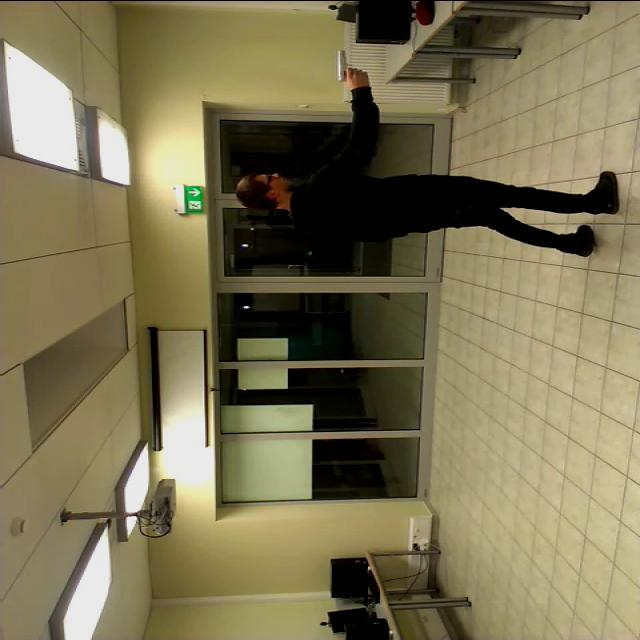handgun: (327, 42, 365, 92)
